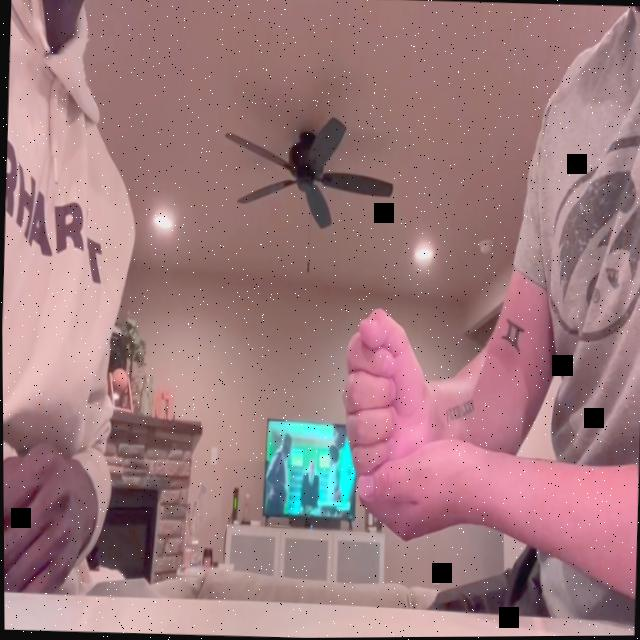Rock: (338, 306, 431, 474)
